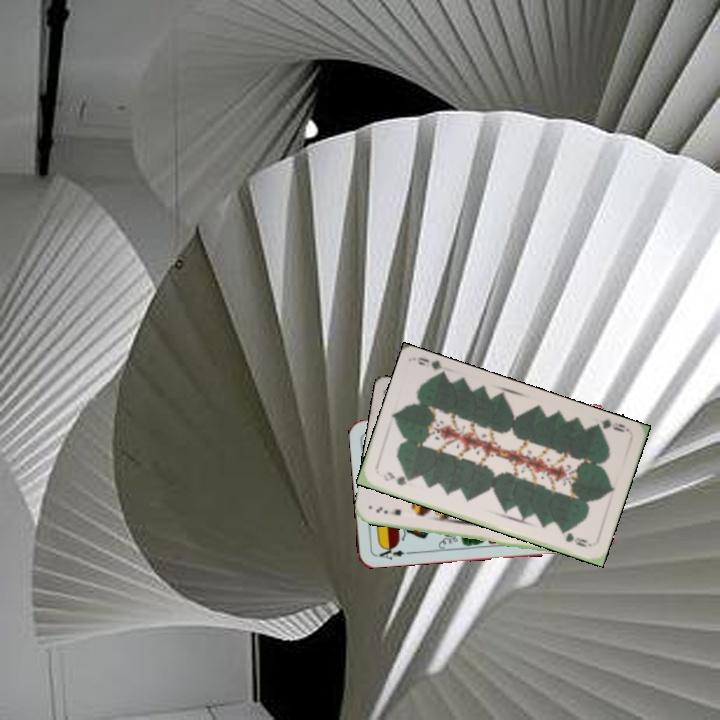E7: (372, 502, 404, 518)
EA: (372, 542, 407, 562)
G9: (590, 415, 632, 435), (379, 468, 413, 488)
